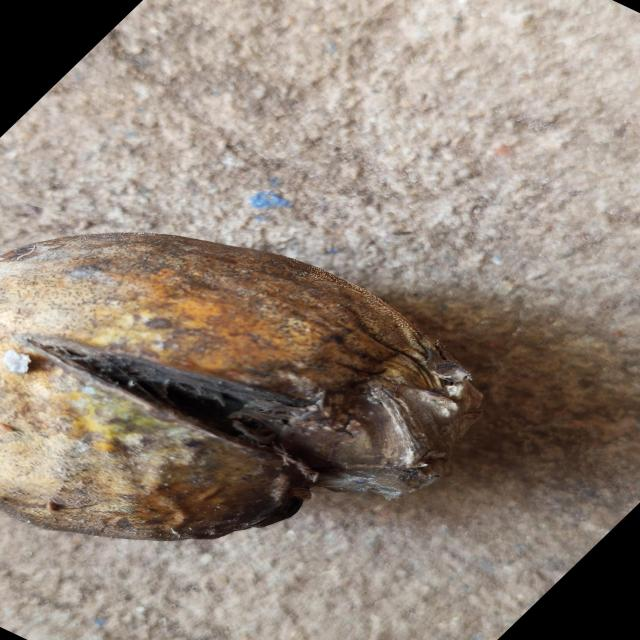damaged: (0, 234, 481, 540)
